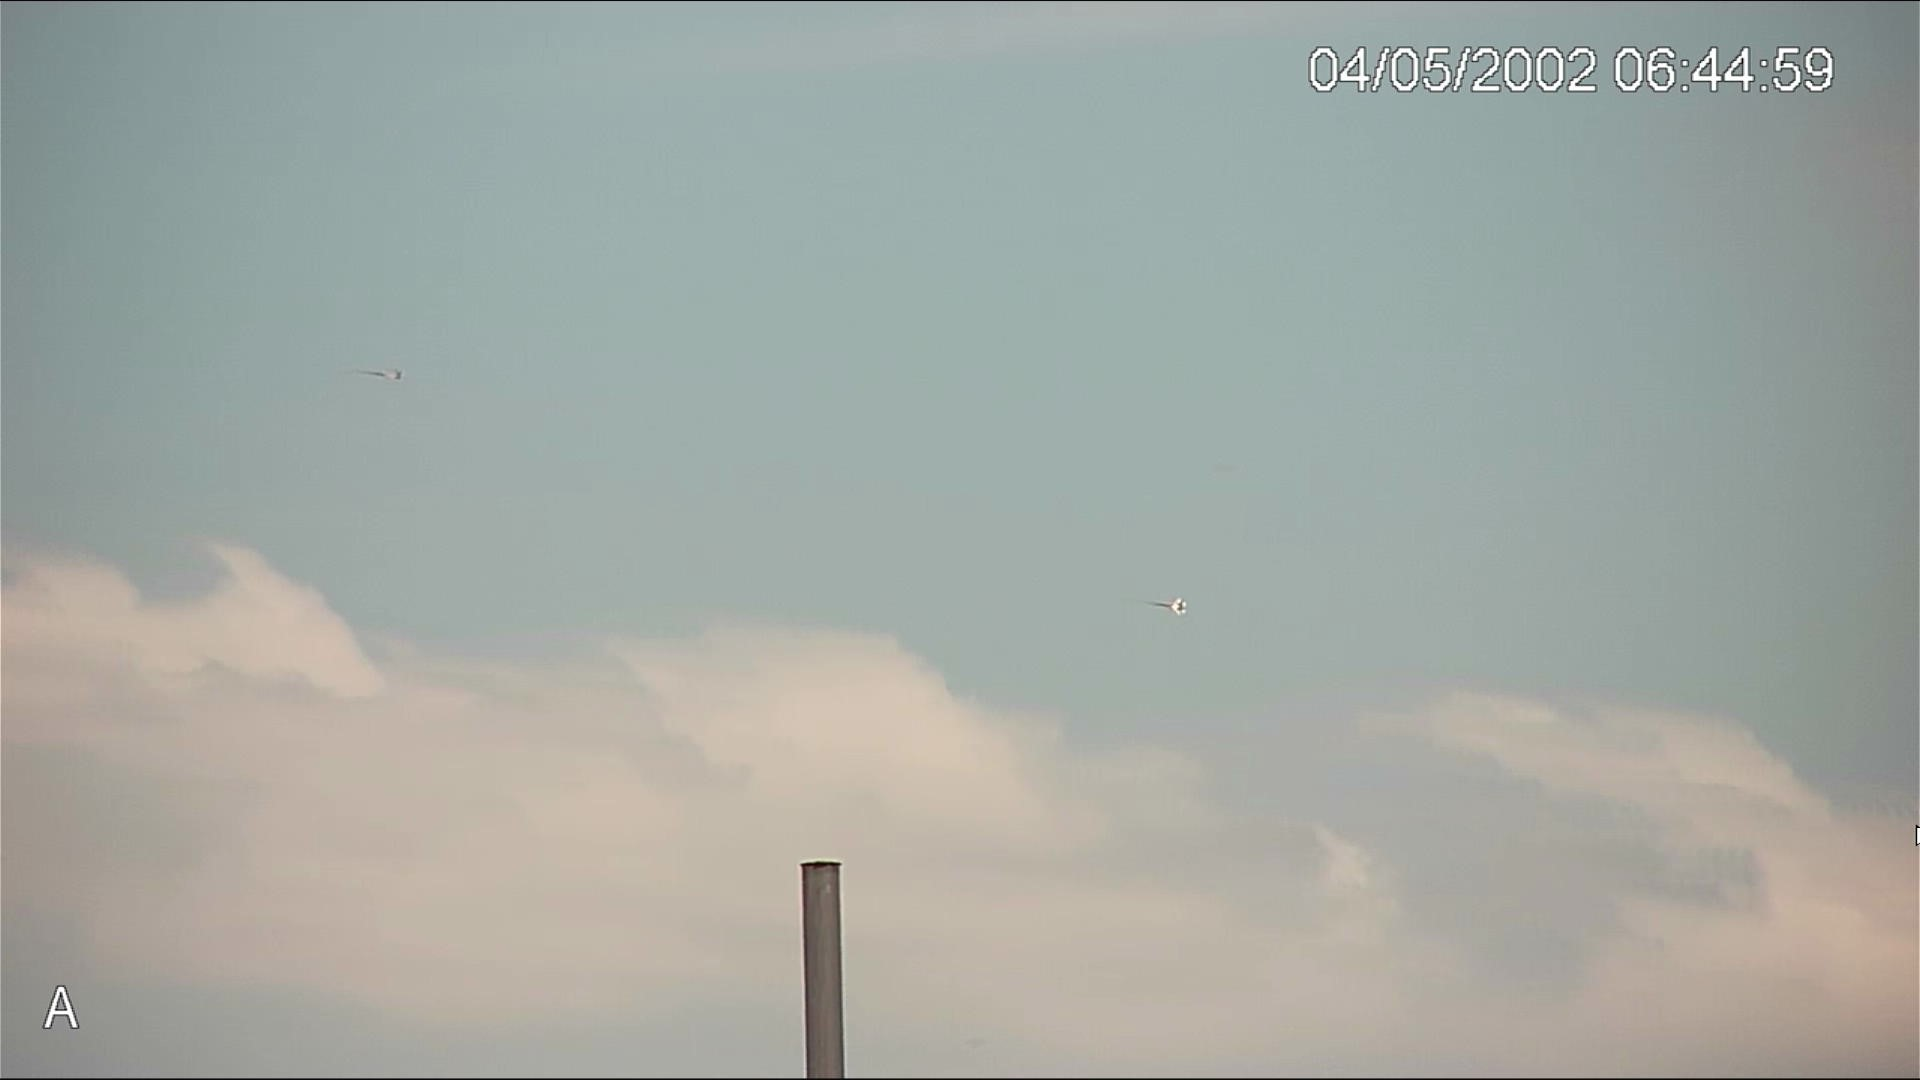SU_30: (1158, 597, 1189, 617), (375, 369, 404, 381)
